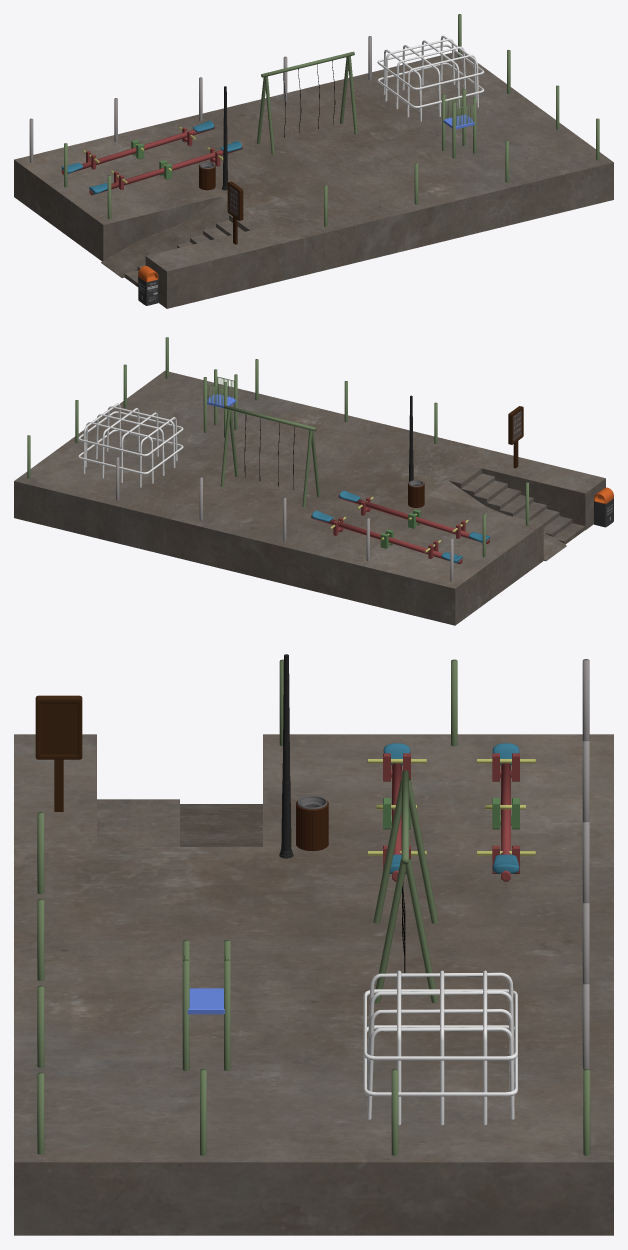
The model's file is stage2_park.fbx.
3 views of the same model, one above another, from view 1: azimuth 30°, elevation 25°; view 2: azimuth 150°, elevation 25°; view 3: azimuth 270°, elevation 25° (orthographic). The views are drawn at different scales.
Parts seen in each view (by area): view 1: Cube.249, Cube.028, NurbsPath.023, NurbsPath.024, Cube.027, Cylinder.022, Cube.026, Cylinder.021, Cube.250, Cylinder.006, Cylinder.027, Plane.008 (+4 smaller); view 2: Cube.249, Cube.027, NurbsPath.023, Cube.028, NurbsPath.024, Cylinder.022, Cube.026, Cube.250, Cylinder.027, Cylinder.021, Cylinder.006, Plane.008 (+3 smaller); view 3: Cube.249, Cube.027, NurbsPath.023, Cube.250, Cube.028, Cylinder.022, Cylinder.021, NurbsPath.024, Cylinder.020, Cylinder.003, Plane.008, Plane.009 (+10 smaller).
Boxes of the visible parts, x1=… form: Cube.249: x1=14, y1=51, x2=613, y2=308; Cube.028: x1=101, y1=196, x2=229, y2=277; NurbsPath.023: x1=383, y1=35, x2=478, y2=121; NurbsPath.024: x1=385, y1=38, x2=476, y2=117; Cube.027: x1=124, y1=213, x2=262, y2=286; Cylinder.022: x1=29, y1=36, x2=371, y2=162; Cube.026: x1=138, y1=265, x2=158, y2=305; Cylinder.021: x1=324, y1=118, x2=599, y2=226; Cube.250: x1=227, y1=181, x2=243, y2=244; Cylinder.006: x1=61, y1=124, x2=214, y2=174; Cylinder.027: x1=89, y1=145, x2=242, y2=195; Plane.008: x1=377, y1=44, x2=484, y2=90; Cube.249: x1=14, y1=370, x2=605, y2=625; Cube.027: x1=448, y1=465, x2=585, y2=544; NurbsPath.023: x1=83, y1=403, x2=177, y2=487; Cube.028: x1=428, y1=480, x2=566, y2=561; NurbsPath.024: x1=85, y1=406, x2=175, y2=483; Cylinder.022: x1=116, y1=456, x2=453, y2=581; Cube.026: x1=594, y1=487, x2=613, y2=527; Cube.250: x1=508, y1=406, x2=523, y2=468; Cylinder.027: x1=338, y1=495, x2=489, y2=543; Cylinder.021: x1=165, y1=337, x2=437, y2=443; Cylinder.006: x1=311, y1=515, x2=462, y2=563; Plane.008: x1=78, y1=411, x2=183, y2=456; Cube.249: x1=14, y1=734, x2=613, y2=1235; Cube.027: x1=97, y1=799, x2=179, y2=846; NurbsPath.023: x1=367, y1=972, x2=514, y2=1119; Cube.250: x1=35, y1=695, x2=82, y2=811; Cube.028: x1=180, y1=804, x2=262, y2=846; Cylinder.022: x1=582, y1=659, x2=589, y2=1069; Cylinder.021: x1=37, y1=812, x2=44, y2=1154; NurbsPath.024: x1=397, y1=970, x2=487, y2=1125; Cylinder.020: x1=200, y1=1069, x2=590, y2=1155; Cylinder.003: x1=279, y1=654, x2=293, y2=858; Plane.008: x1=363, y1=989, x2=517, y2=1060; Plane.009: x1=363, y1=1025, x2=517, y2=1096.
Bounding box in the file's own units: 7300 × 2118 × 4190.
